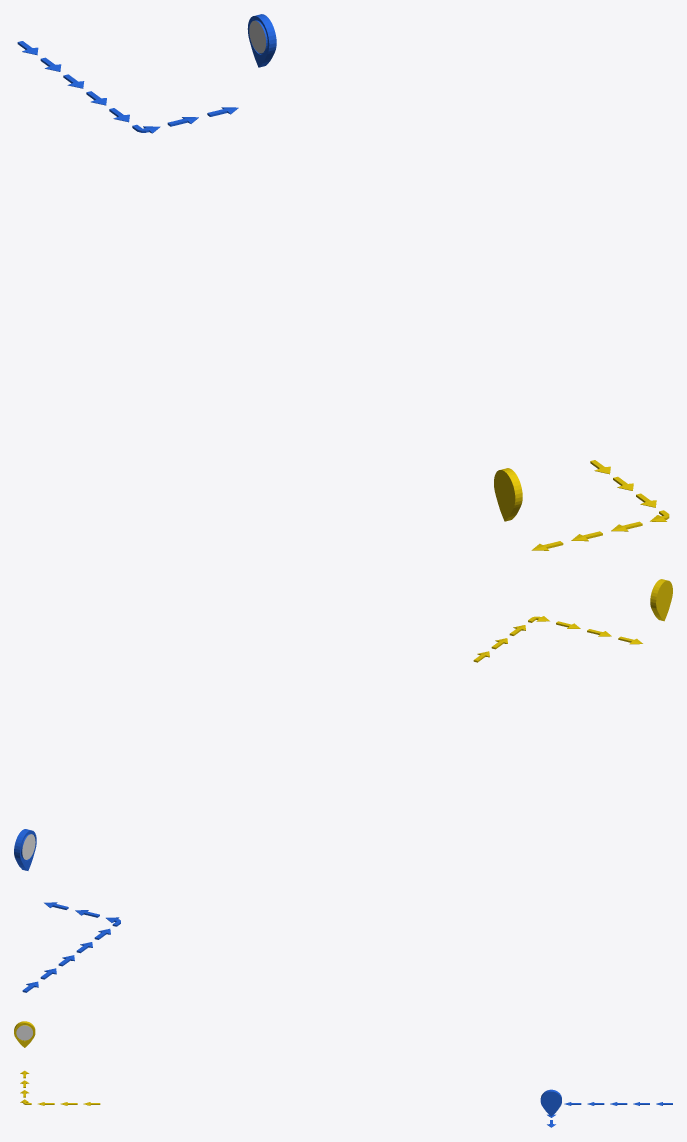
File: navigation.glb
3 renders of one model, top to bottom at view 1: azimuth 30°, elevation 25°; view 2: azimuth 150°, elevation 25°; view 3: azimuth 270°, elevation 25°, orthographic. The views are drawn at different scales.
Visible parts, largest first — view 1: Cylinder.001, Cylinder; view 2: Cylinder.001, Cylinder; view 3: Cylinder.001, Cylinder.
Part boxes in pixels (x1=…): Cylinder.001: x1=494, y1=468, x2=522, y2=521; Cylinder: x1=247, y1=14, x2=276, y2=67; Cylinder.001: x1=650, y1=579, x2=672, y2=621; Cylinder: x1=14, y1=829, x2=36, y2=870; Cylinder.001: x1=14, y1=1021, x2=35, y2=1047; Cylinder: x1=540, y1=1089, x2=561, y2=1116.
Bounding box in the file's own units: 2.9 × 0.8347 × 11.51.
